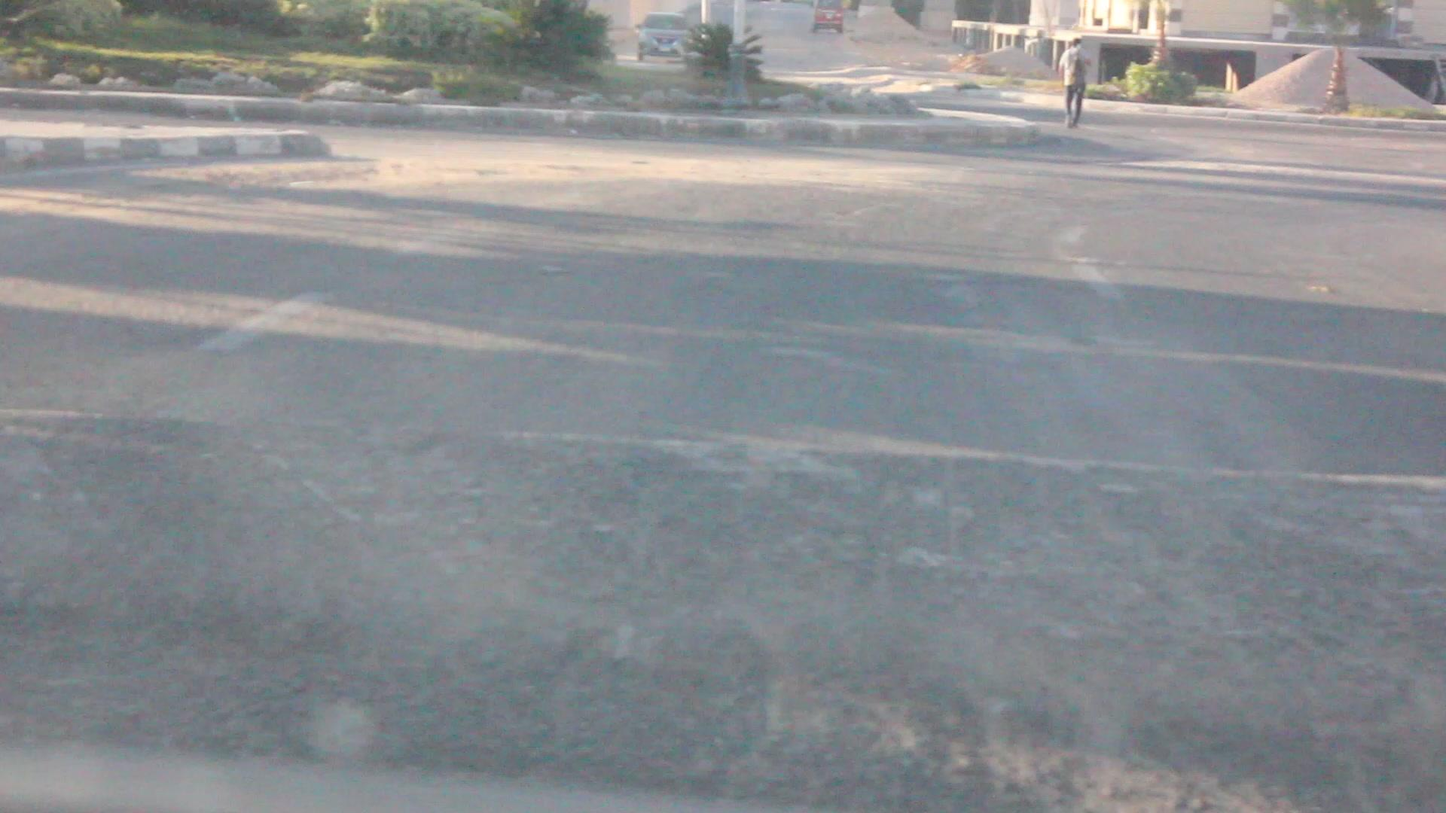Bump: (0, 395, 1446, 813)
